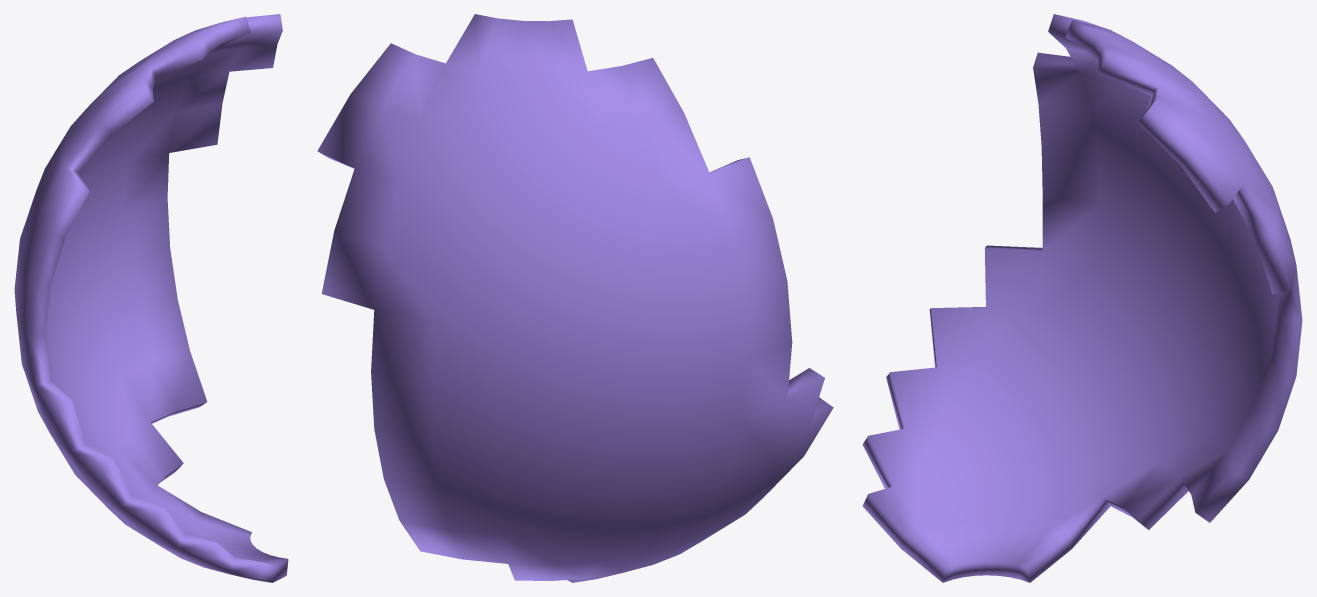
Rendered from basura4.fbx.
3 renders of one model, left to right at view 1: azimuth 30°, elevation 25°; view 2: azimuth 150°, elevation 25°; view 3: azimuth 270°, elevation 25°, orthographic. The views are drawn at different scales.
Visible parts, largest first — view 1: Sphere; view 2: Sphere; view 3: Sphere.
Boxes of the visible parts, x1,y1,x2,y2 form: Sphere: (14,14,288,582); Sphere: (317,14,833,582); Sphere: (862,14,1302,582).
Size of the model in its own units: 396 by 581 by 425.
